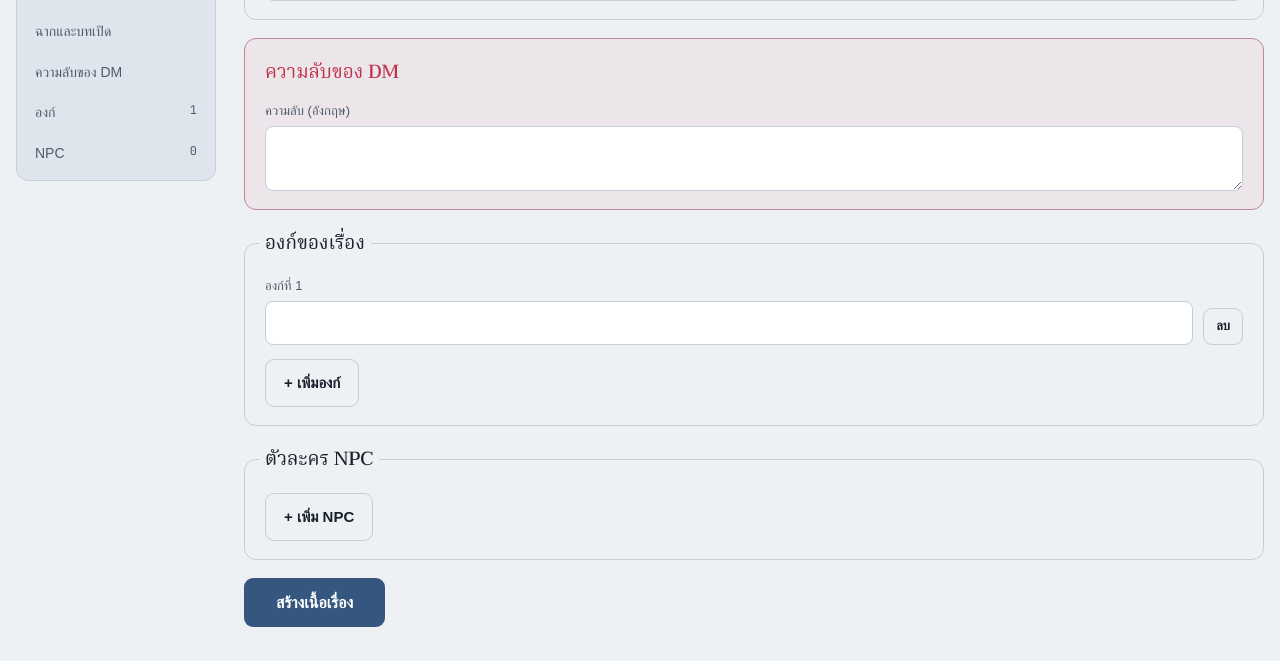
Test: AdventureForm — step 1, create › starts with one empty act and lets you add another
(page scrolled)
Expected: the number of fields labelled "องก์ที่ 1" is 1, [265,301,1193,345]
Click the button "+ เพิ่มองก์": click(312, 383) [265,359,359,407]
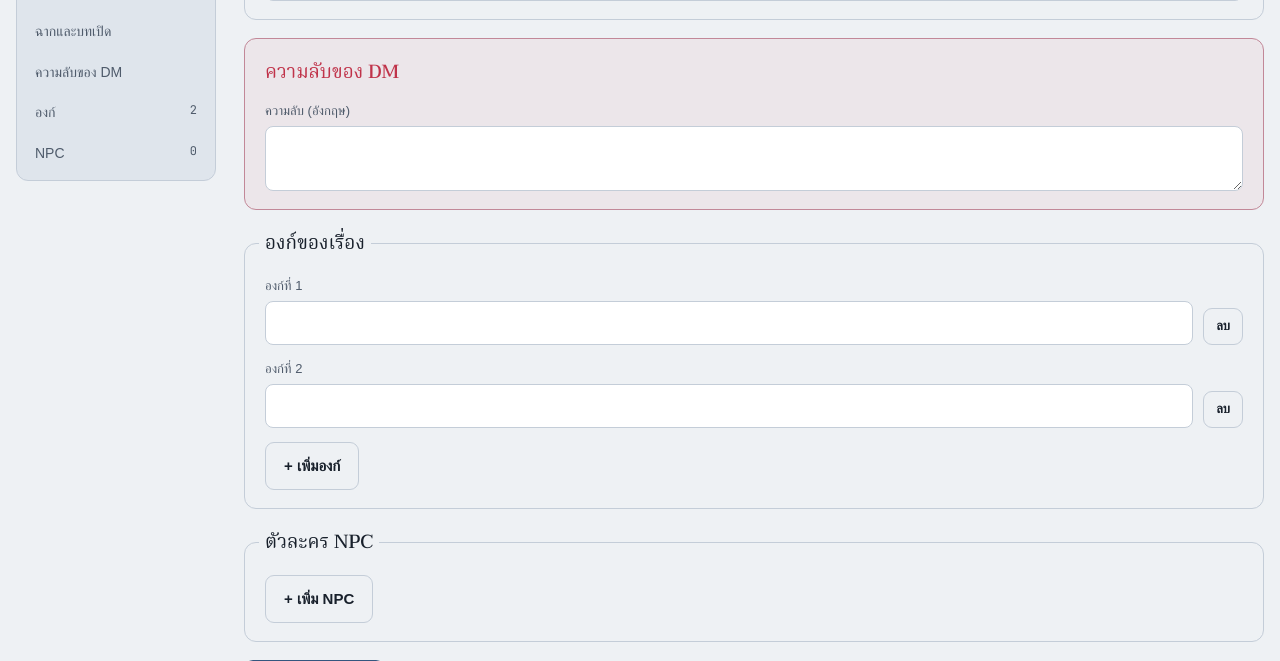
Expected: the number of fields labelled "องก์ที่ 1" is 2, [265,301,1193,345]; [265,384,1193,428]
